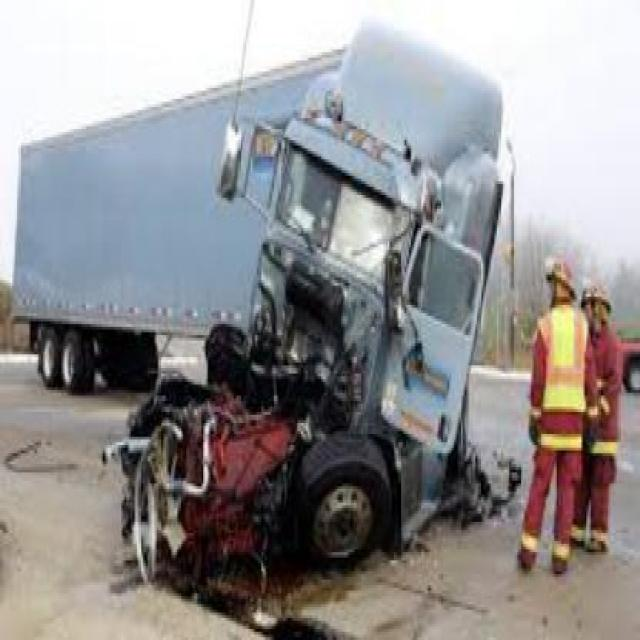accident: (5, 41, 512, 610)
